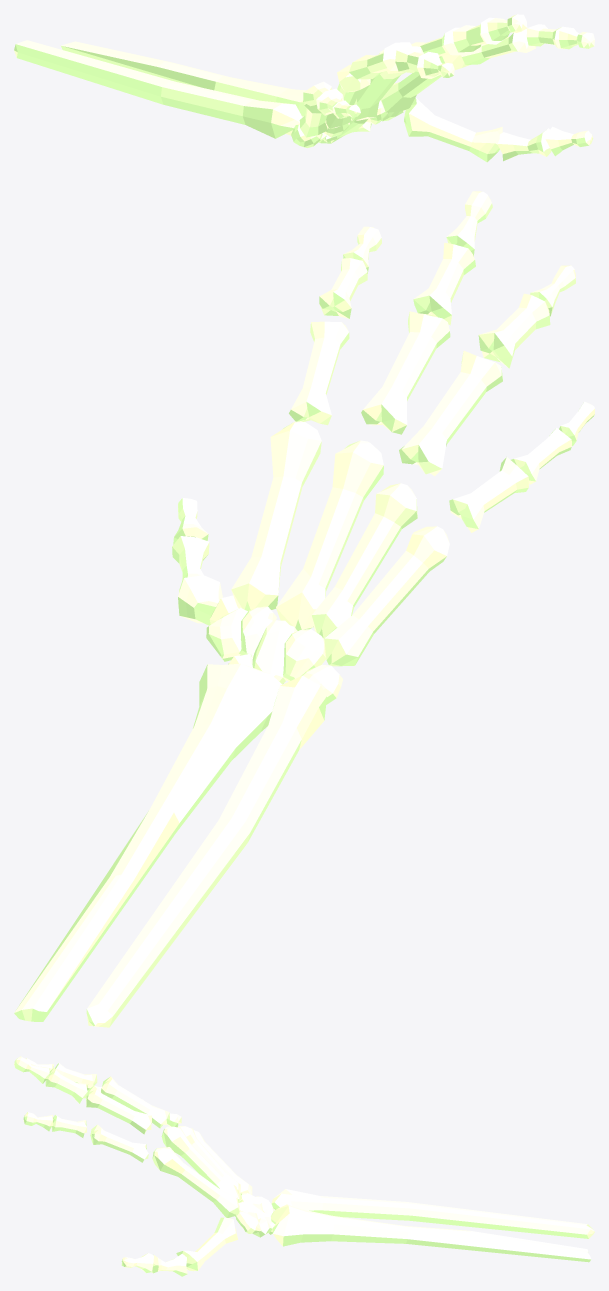
File: hand cast.fbx
3 renders of one model, top to bottom at view 1: azimuth 30°, elevation 25°; view 2: azimuth 150°, elevation 25°; view 3: azimuth 270°, elevation 25°, orthographic. The views are drawn at different scales.
Parts seen in each view (by area): view 1: Cube.026, Cube.025, Cube.017, Cube.001, Cube, Cube.005, Cube.007, Cube.018, Cube.002, Cube.010, Cube.011, Cube.019 (+10 smaller); view 2: Cube.025, Cube.026, Cube, Cube.001, Cube.003, Cube.002, Cube.005, Cube.006, Cube.007, Cube.011, Cube.008, Cube.010 (+9 smaller); view 3: Cube.025, Cube.026, Cube.001, Cube, Cube.017, Cube.006, Cube.005, Cube.007, Cube.010, Cube.002, Cube.003, Cube.018 (+6 smaller).
Boxes of the visible parts, left/top/right/bottom form: Cube.026: left=14, top=40, right=303, bottom=138; Cube.025: left=61, top=41, right=344, bottom=143; Cube.017: left=404, top=98, right=502, bottom=162; Cube.001: left=380, top=54, right=469, bottom=112; Cube: left=351, top=50, right=405, bottom=120; Cube.005: left=349, top=42, right=411, bottom=79; Cube.007: left=461, top=29, right=535, bottom=64; Cube.018: left=497, top=128, right=551, bottom=161; Cube.002: left=326, top=64, right=370, bottom=128; Cube.010: left=453, top=17, right=503, bottom=52; Cube.011: left=395, top=46, right=439, bottom=78; Cube.019: left=545, top=126, right=593, bottom=156; Cube.025: left=14, top=663, right=282, bottom=1021; Cube.026: left=86, top=675, right=326, bottom=1027; Cube: left=276, top=440, right=383, bottom=631; Cube.001: left=231, top=421, right=321, bottom=611; Cube.003: left=324, top=526, right=449, bottom=666; Cube.002: left=311, top=483, right=417, bottom=638; Cube.005: left=399, top=350, right=502, bottom=476; Cube.006: left=361, top=311, right=450, bottom=434; Cube.007: left=289, top=321, right=349, bottom=425; Cube.011: left=478, top=293, right=550, bottom=368; Cube.008: left=449, top=457, right=529, bottom=532; Cube.010: left=413, top=242, right=475, bottom=325; Cube.025: left=271, top=1204, right=591, bottom=1262; Cube.026: left=271, top=1189, right=594, bottom=1238; Cube.001: left=152, top=1147, right=239, bottom=1217; Cube: left=161, top=1126, right=239, bottom=1202; Cube.017: left=176, top=1217, right=237, bottom=1271; Cube.006: left=86, top=1085, right=151, bottom=1134; Cube.005: left=101, top=1076, right=169, bottom=1128; Cube.007: left=90, top=1124, right=148, bottom=1162; Cube.010: left=45, top=1068, right=88, bottom=1103; Cube.002: left=178, top=1126, right=240, bottom=1195; Cube.003: left=193, top=1130, right=252, bottom=1194; Cube.018: left=151, top=1253, right=187, bottom=1276.
Size of the model in its own units: 133 by 141 by 332.
